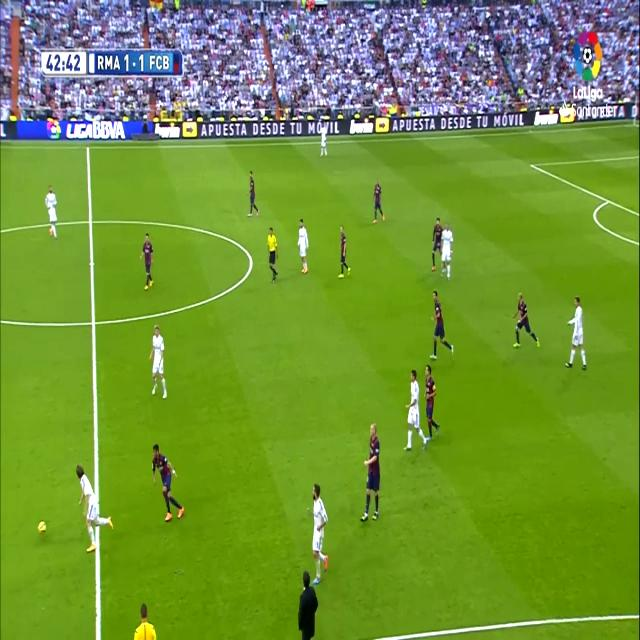corner: (630, 119, 638, 129)
halfcircle_bottom: (86, 306, 100, 338)
halfcircle_top: (84, 209, 96, 233)
midline_top_intersection: (84, 141, 92, 154)
top_arc_area_intersection: (604, 192, 612, 207)
